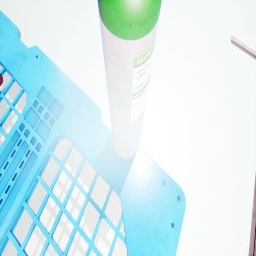0: (97, 0, 162, 158)
FirstAidBox ,: (0, 73, 3, 86)
